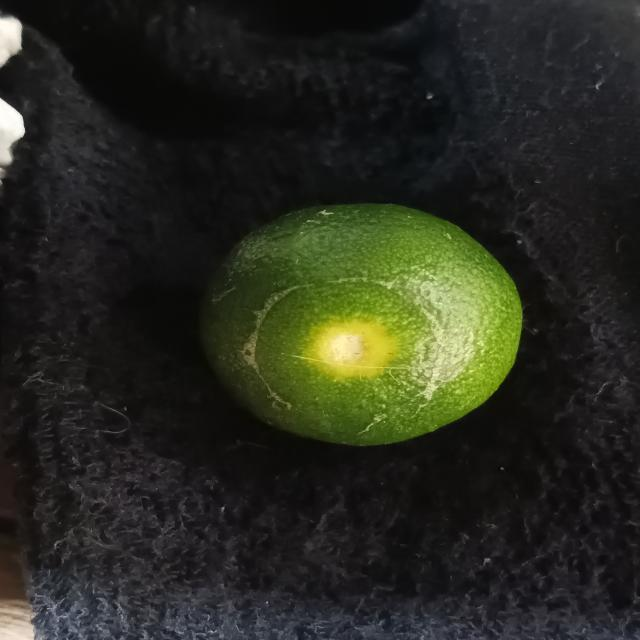thrips: (203, 193, 526, 441)
